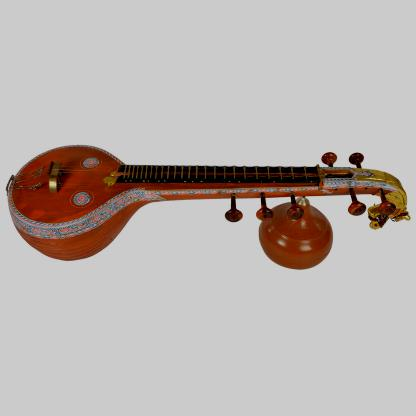Veena: (2, 140, 415, 295)
